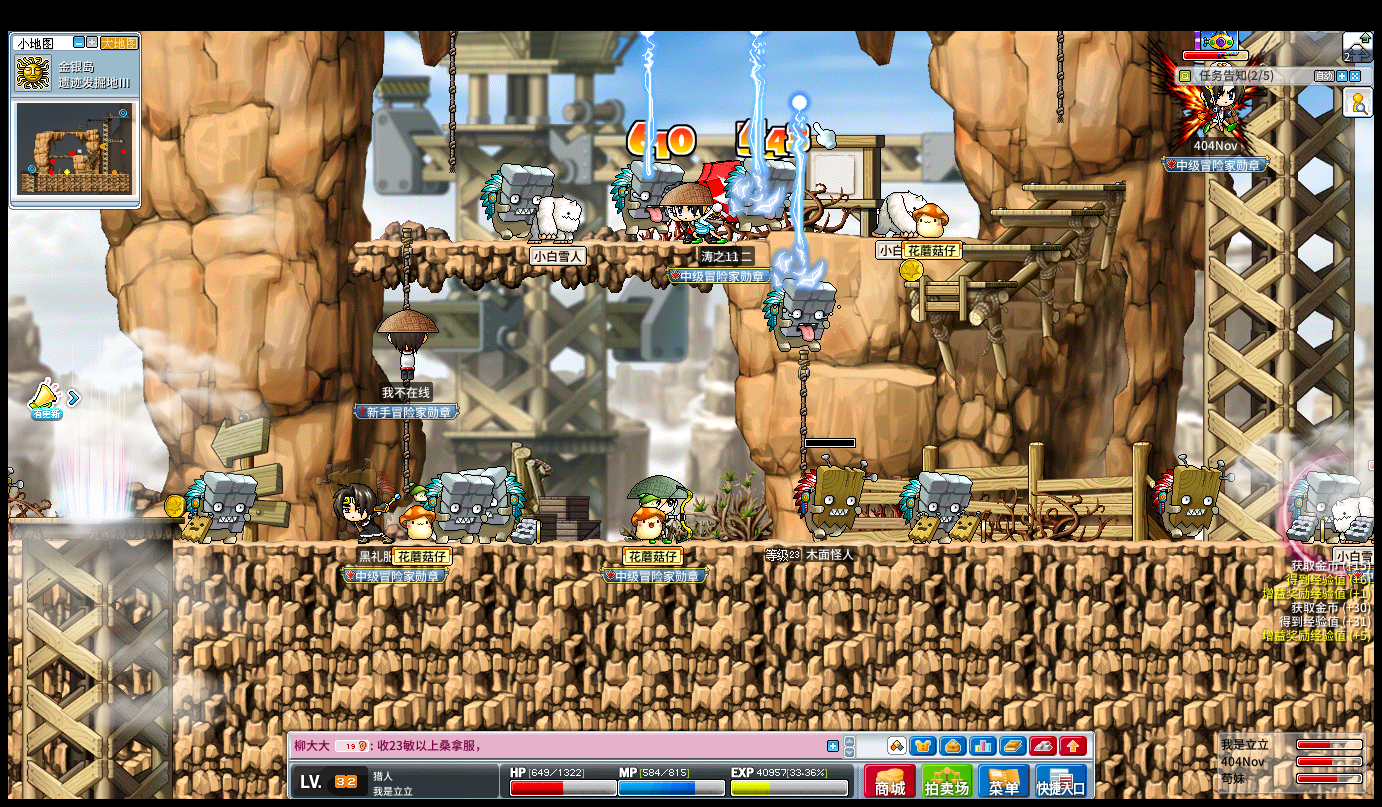floor: (356, 238, 724, 249), (832, 364, 937, 384), (11, 514, 180, 524), (900, 280, 1015, 289), (989, 207, 1101, 215), (1019, 184, 1126, 192), (954, 244, 1061, 250)
monster: (793, 457, 872, 539), (1151, 456, 1225, 541), (477, 163, 551, 242), (762, 278, 837, 354), (186, 470, 258, 545), (899, 471, 972, 544), (723, 155, 797, 227), (428, 468, 495, 542), (608, 160, 666, 242), (475, 467, 525, 546)
rope: (796, 352, 808, 473), (448, 30, 457, 169), (399, 228, 411, 309), (397, 229, 409, 310), (1053, 30, 1063, 121), (1056, 30, 1064, 121), (401, 420, 409, 496)
